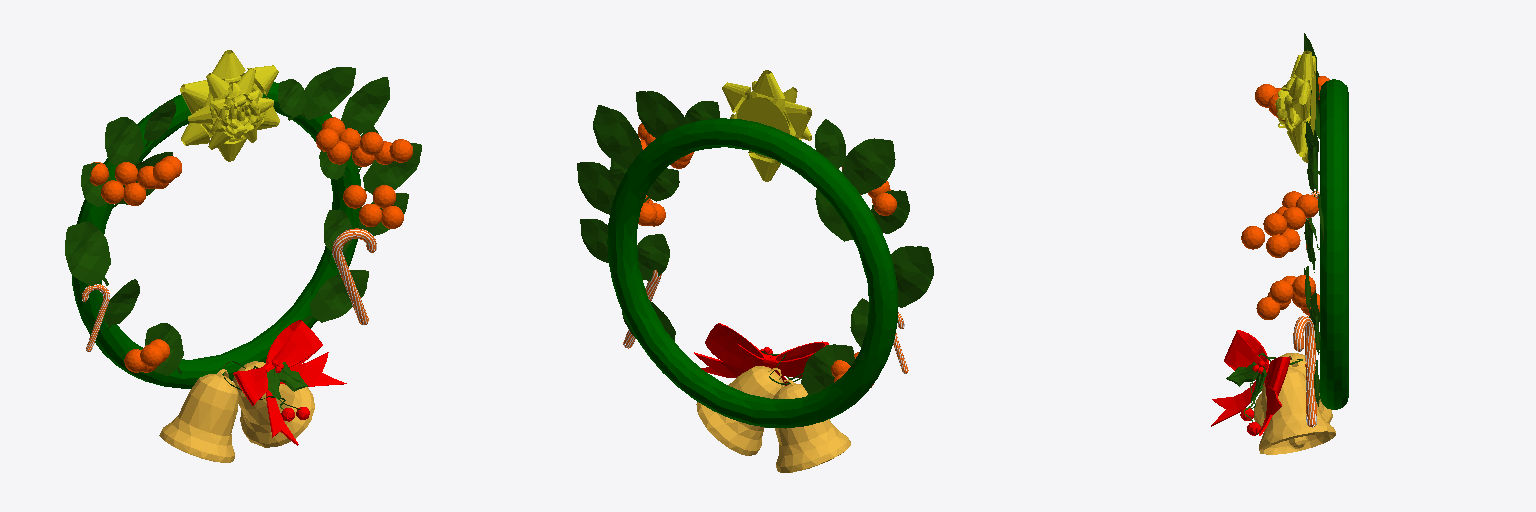
3 views of the same model, side by side, from view 1: azimuth 30°, elevation 25°; view 2: azimuth 150°, elevation 25°; view 3: azimuth 270°, elevation 25° (orthographic).
Parts seen in each view (by area): view 1: Bell003.016_Mesh.081; view 2: Bell003.016_Mesh.081; view 3: Bell003.016_Mesh.081.
Boxes of the visible parts, box(x1,y1,x2,y2) form: Bell003.016_Mesh.081: box(65, 50, 421, 462); Bell003.016_Mesh.081: box(577, 70, 933, 472); Bell003.016_Mesh.081: box(1211, 33, 1348, 454).
Size of the model in its own units: 0.4427 by 0.4675 by 0.1482.
Materials: 8 (8 with a texture image).